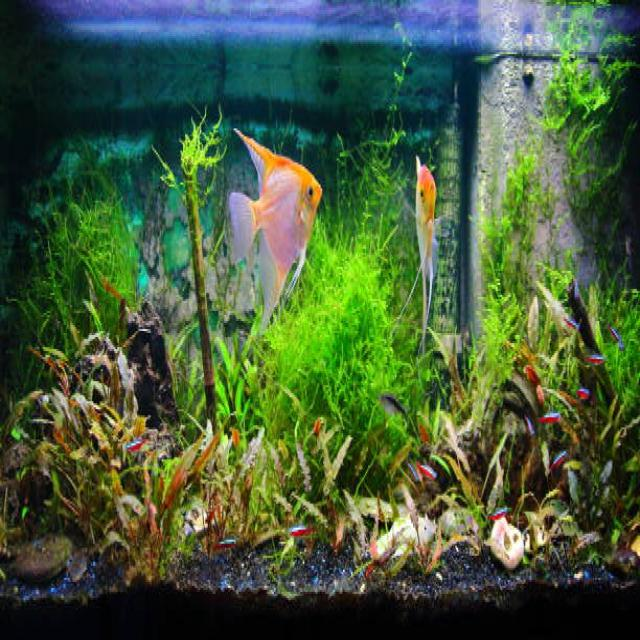AngelFish: (232, 120, 324, 332), (401, 147, 453, 346)
